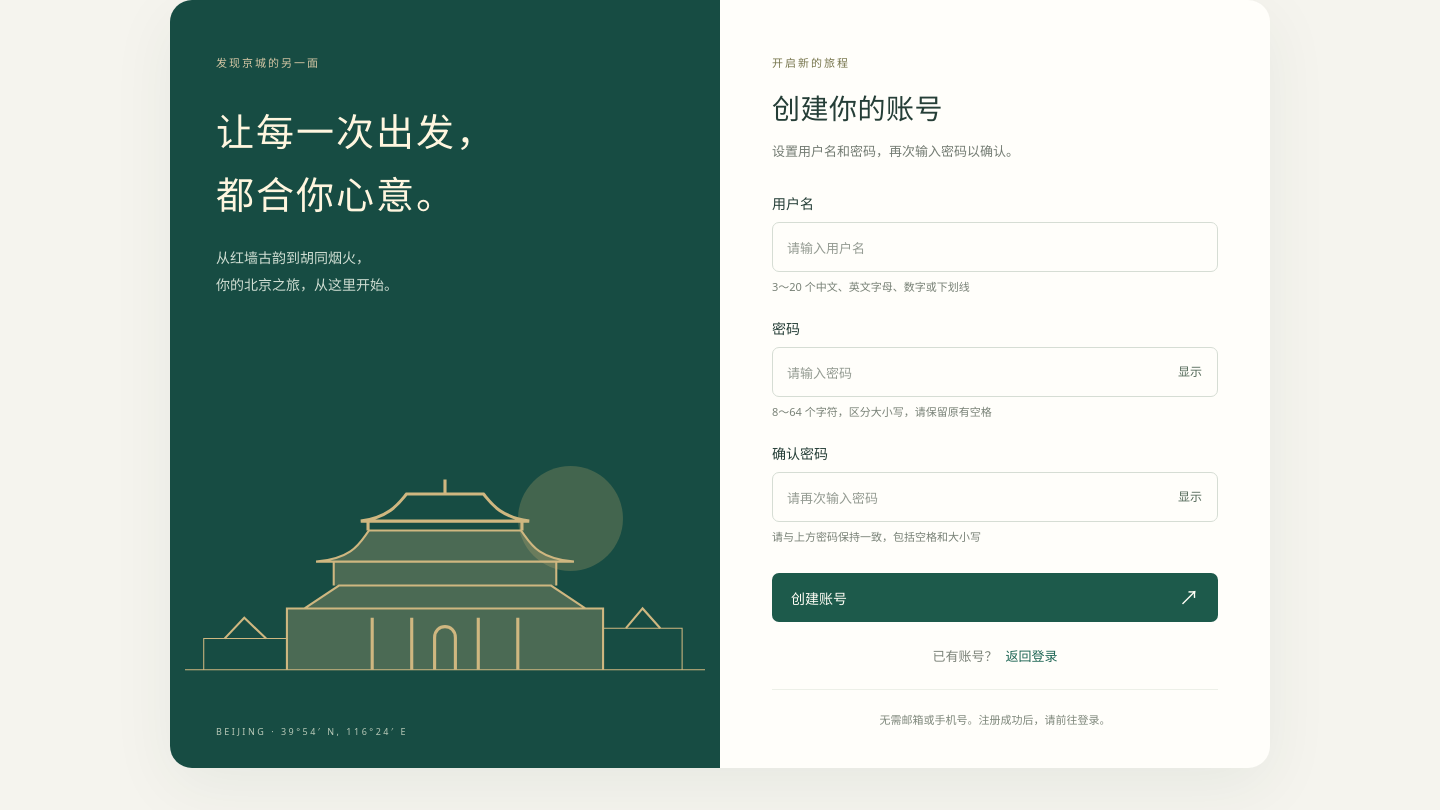
账号表单 › 确认密码为空或与密码原值不同，阻止注册：
Type "test_user" into the field with id "username" at [995, 247], box [772,222,1218,272]
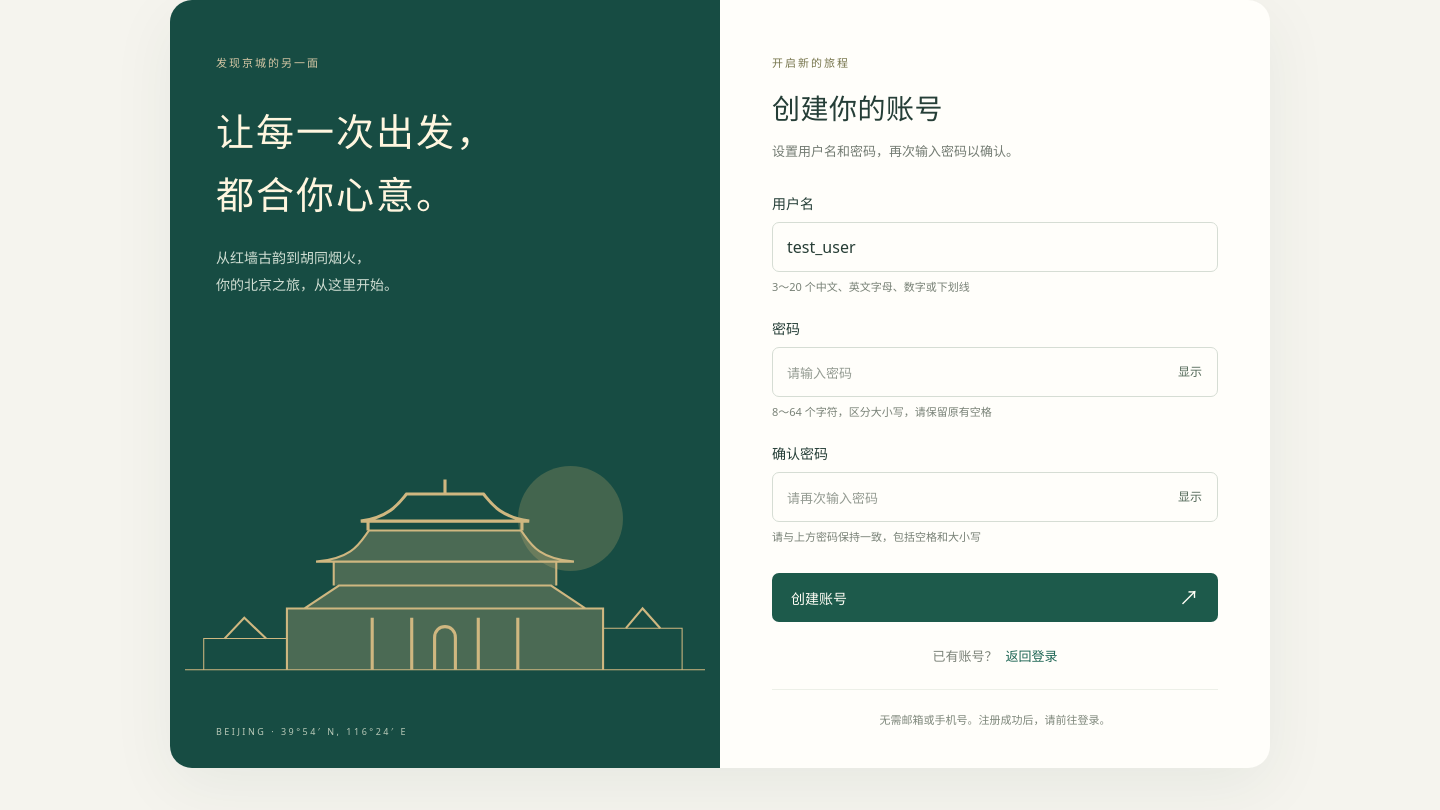
Type "  abcdef" into the password field labelled "密码" at [995, 372], box [772,347,1218,397]
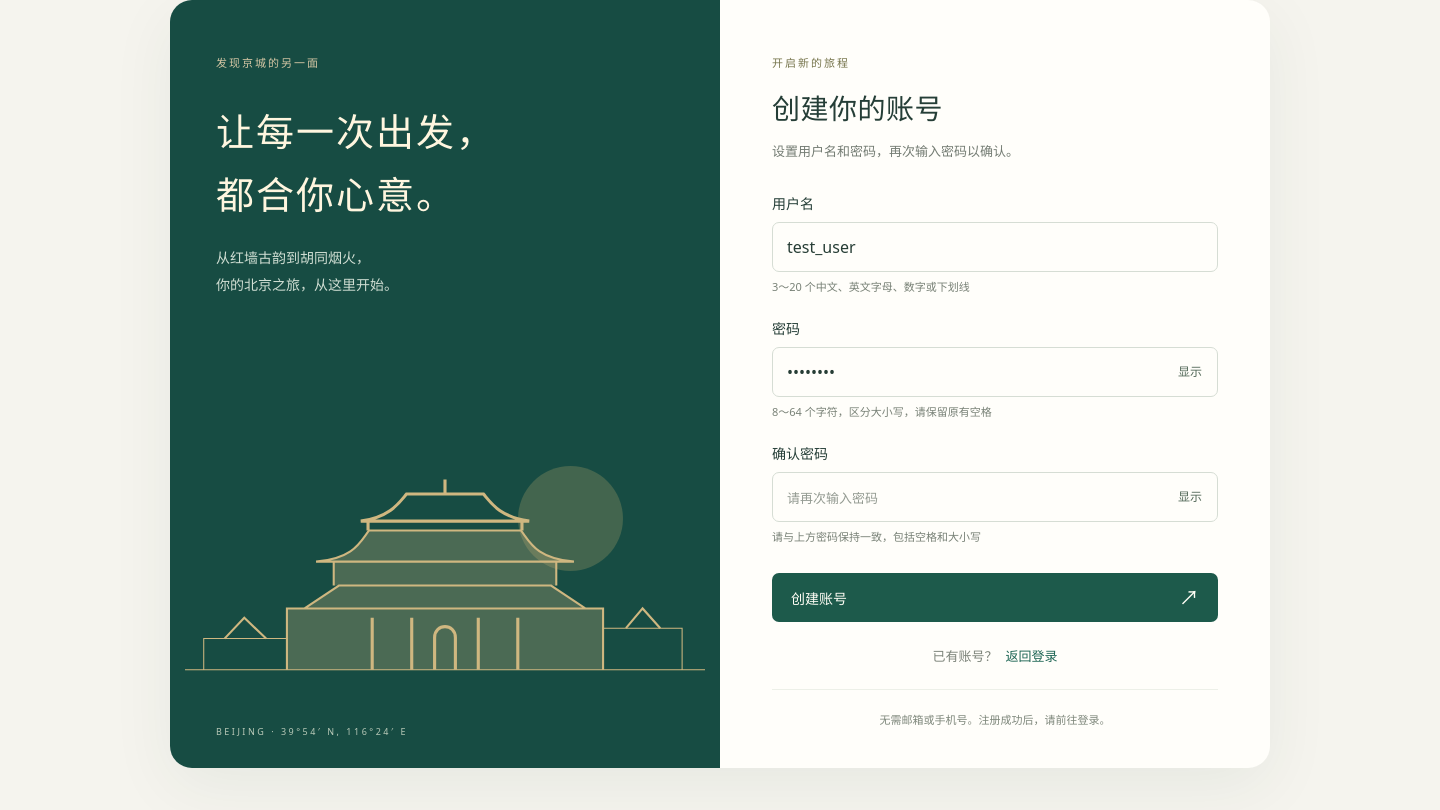
Submit the form, box [772,193,1218,622]
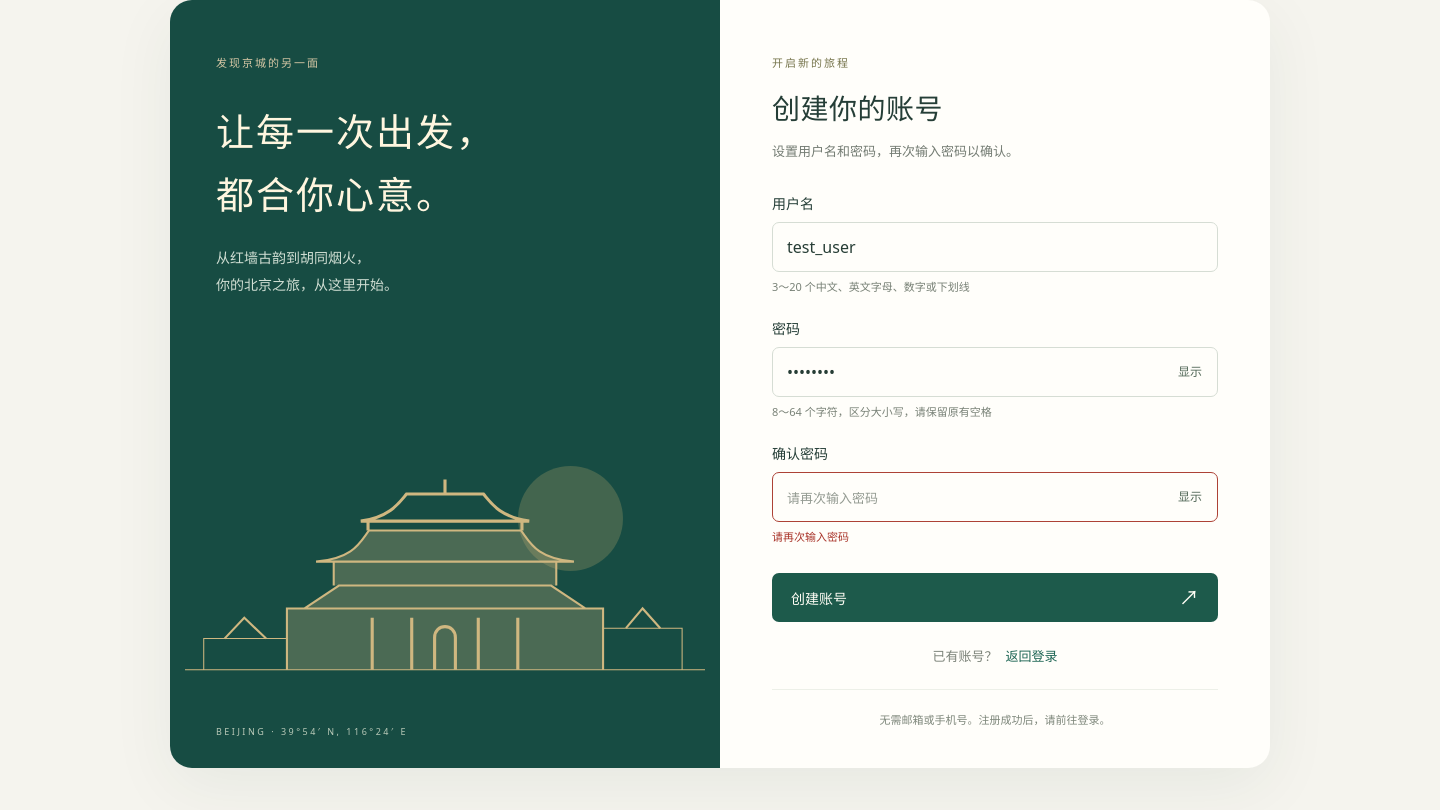
Expected: the message with id "confirm-password-error" reads "请再次输入密码", [772,529,849,544]
